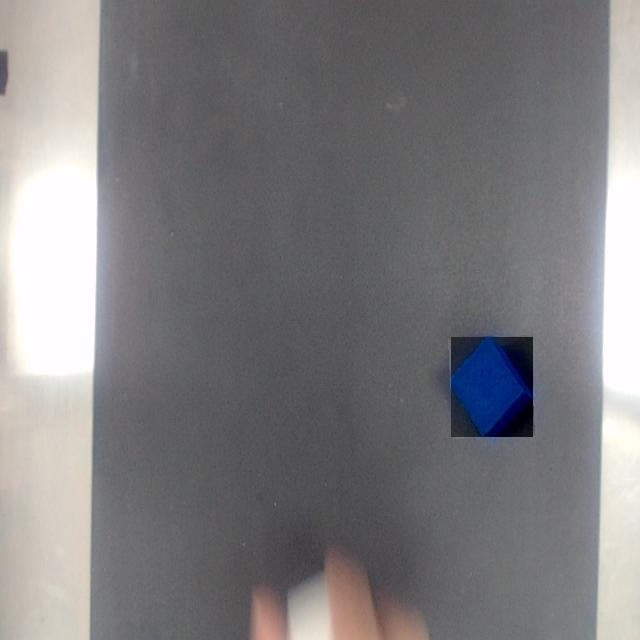Azul: (451, 337, 533, 437)
